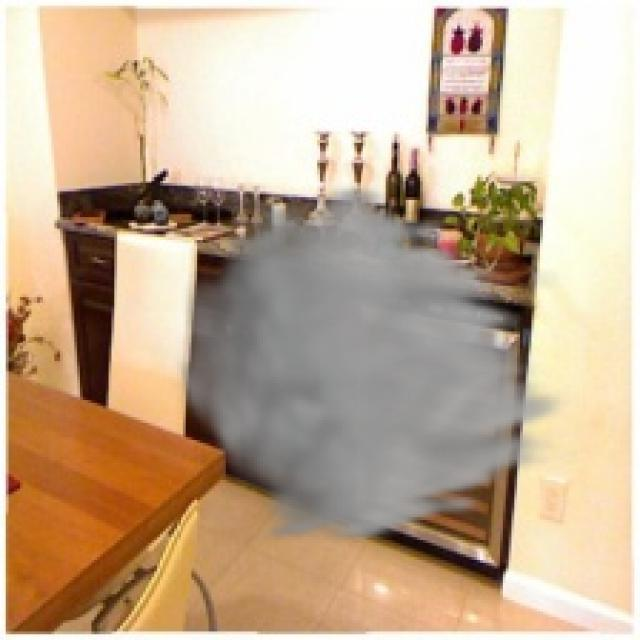Smoke: (168, 180, 578, 546)
